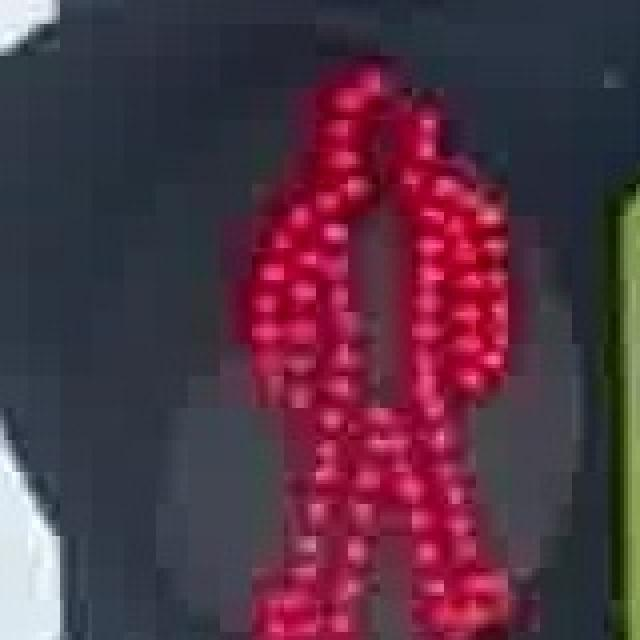red-crossing: (228, 44, 532, 620)
